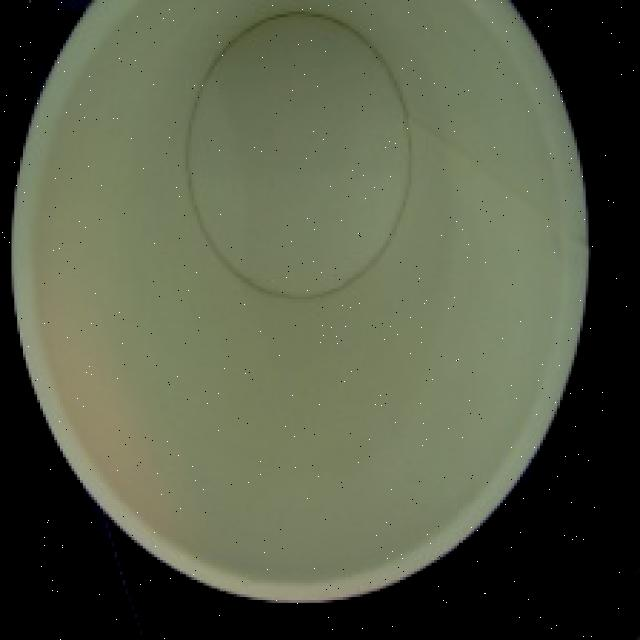cups: (6, 0, 606, 617)
